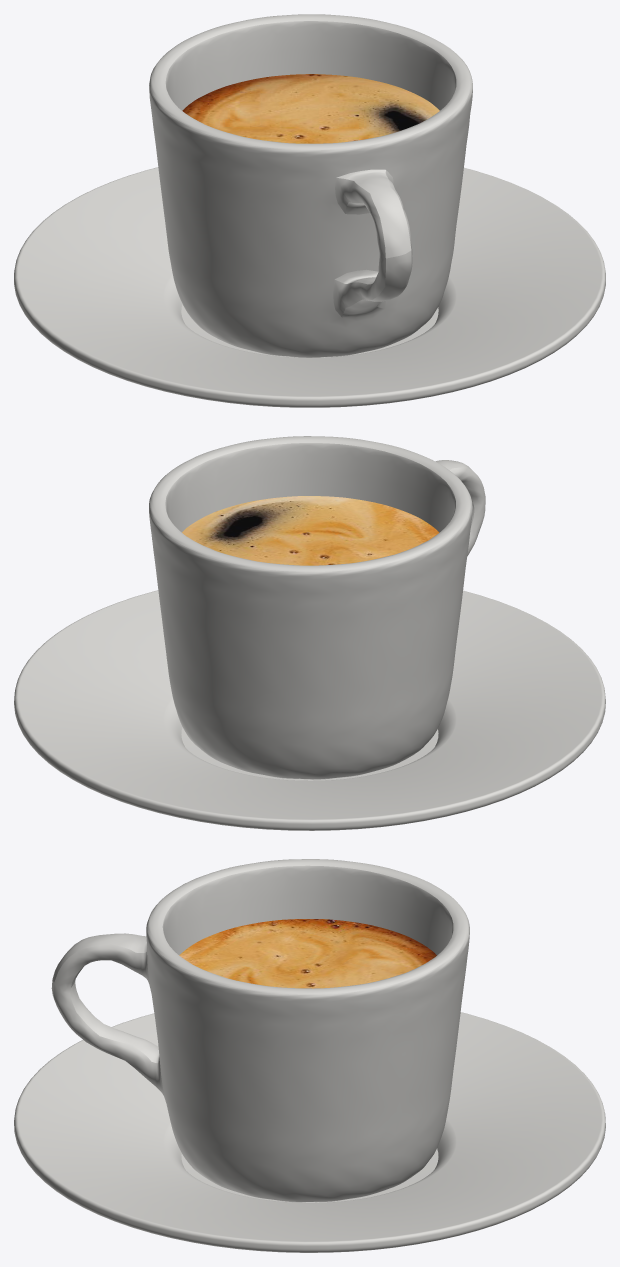
File: coffee.glb
3 views of the same model, one above another, from view 1: azimuth 30°, elevation 25°; view 2: azimuth 150°, elevation 25°; view 3: azimuth 270°, elevation 25° (orthographic).
Parts seen in each view (by area): view 1: coffee-VRay-05, coffee-VRay-06, coffee-VRay-03; view 2: coffee-VRay-05, coffee-VRay-06, coffee-VRay-03; view 3: coffee-VRay-05, coffee-VRay-06, coffee-VRay-03.
Part boxes in pixels (x1,y1,x2,y2): coffee-VRay-05: [149, 14, 472, 357]; coffee-VRay-06: [14, 167, 605, 407]; coffee-VRay-03: [182, 74, 439, 143]; coffee-VRay-05: [149, 436, 485, 779]; coffee-VRay-06: [14, 590, 605, 830]; coffee-VRay-03: [182, 496, 439, 565]; coffee-VRay-05: [51, 859, 469, 1202]; coffee-VRay-06: [14, 1012, 605, 1252]; coffee-VRay-03: [179, 919, 436, 988].
Size of the model in its own units: 14.38 by 7.1 by 14.38.
Materials: 2 (1 with a texture image).
